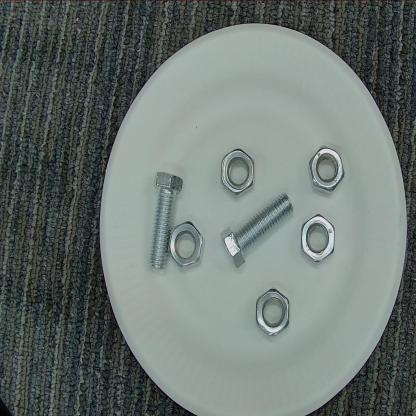FOD: (219, 192, 301, 270), (148, 166, 189, 275), (252, 282, 296, 342), (296, 212, 343, 266), (218, 144, 260, 202), (307, 141, 351, 196), (168, 218, 209, 272)
